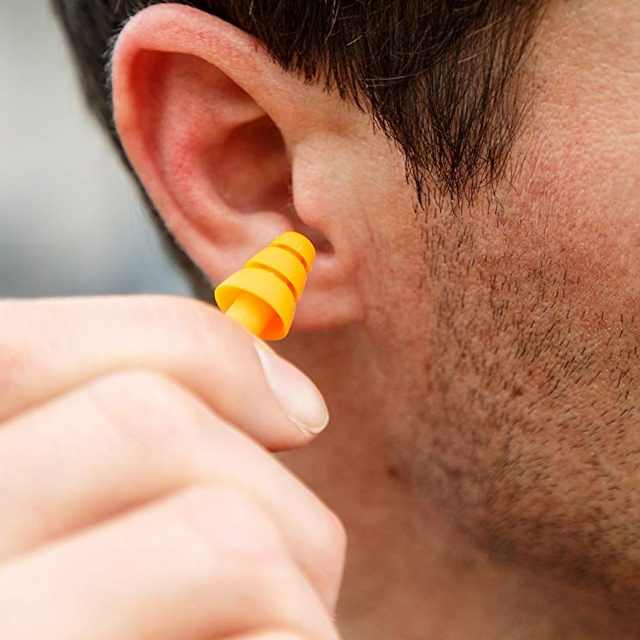Hearing_Protection: (217, 252, 354, 359)
